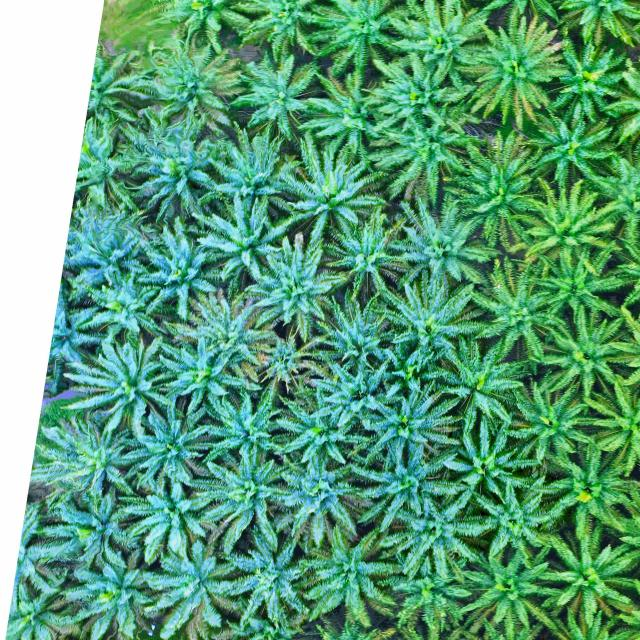Tree: (456, 8, 572, 128), (371, 272, 493, 378), (59, 329, 176, 437), (276, 127, 390, 235), (244, 226, 350, 340), (380, 484, 497, 586), (353, 365, 462, 474), (350, 436, 474, 530), (505, 176, 620, 275), (359, 42, 477, 138), (450, 127, 545, 244), (300, 522, 404, 628), (162, 286, 274, 384), (457, 538, 560, 640), (434, 332, 534, 437), (438, 408, 542, 508), (467, 260, 561, 368), (539, 300, 640, 400), (188, 447, 290, 546), (138, 40, 249, 130), (468, 472, 570, 568), (539, 527, 640, 623), (190, 187, 291, 282), (398, 196, 494, 294), (370, 116, 470, 210), (276, 444, 368, 546), (516, 100, 619, 191), (116, 474, 215, 567), (144, 540, 244, 632), (545, 442, 637, 542), (200, 117, 303, 206), (123, 121, 215, 220), (307, 347, 406, 439), (262, 451, 362, 542), (276, 373, 366, 473), (307, 0, 420, 78), (379, 544, 476, 632), (530, 242, 636, 322), (62, 546, 152, 639), (222, 530, 310, 624), (320, 212, 411, 302), (507, 371, 598, 460), (232, 49, 318, 142), (299, 66, 385, 157), (53, 486, 146, 570), (384, 0, 489, 74), (550, 33, 625, 131), (314, 293, 400, 377), (136, 231, 218, 319), (198, 388, 289, 466), (43, 419, 134, 496), (154, 333, 245, 410), (581, 369, 640, 484), (123, 416, 214, 489), (79, 267, 161, 342), (144, 0, 253, 55), (235, 0, 331, 60), (251, 324, 326, 391), (561, 0, 640, 54)
